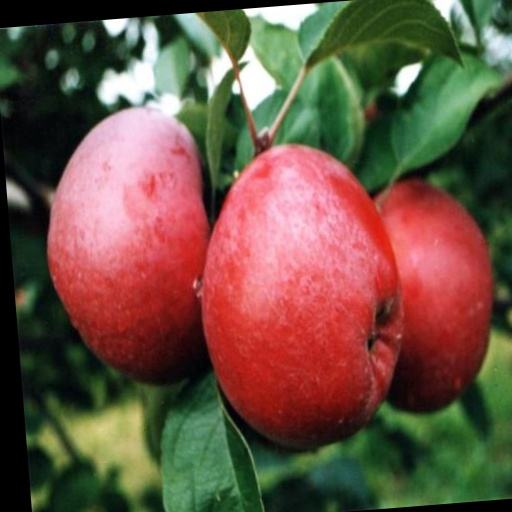fruit: (203, 145, 402, 448), (48, 108, 209, 383), (377, 180, 493, 411)
